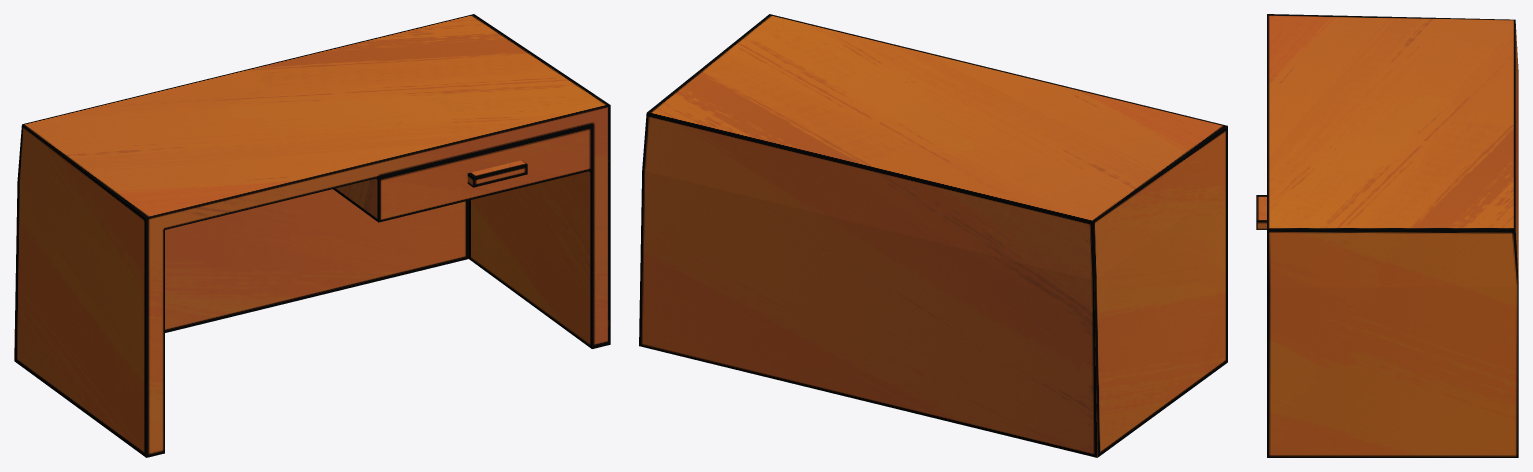
The model's file is Escritorio.fbx.
3 views of the same model, side by side, from view 1: azimuth 30°, elevation 25°; view 2: azimuth 150°, elevation 25°; view 3: azimuth 270°, elevation 25° (orthographic). The views are drawn at different scales.
Visible parts, largest first — view 1: Escritorio; view 2: Escritorio; view 3: Escritorio.
Boxes of the visible parts, box(x1,y1,x2,y2) form: Escritorio: box(14, 14, 610, 457); Escritorio: box(639, 14, 1227, 457); Escritorio: box(1256, 14, 1518, 457).
Size of the model in its own units: 435 by 214 by 224.
Materials: 1 (1 with a texture image).
